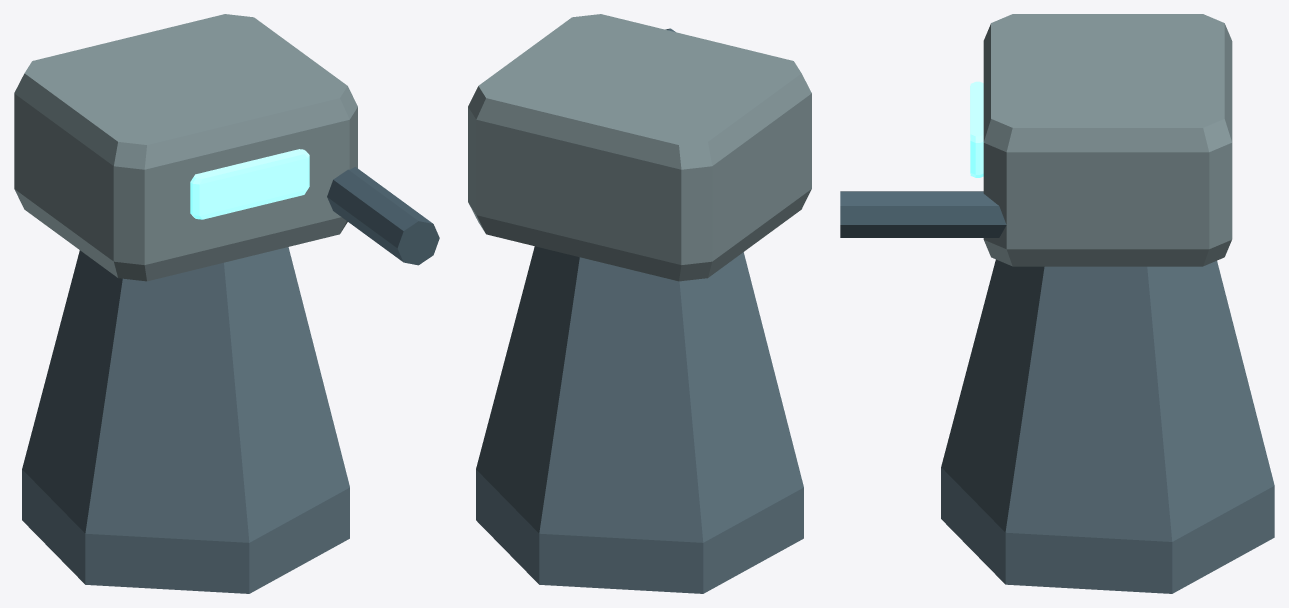
Rendered from SM_ELY_UNIT_001_RangedSentry.glb.
3 renders of one model, left to right at view 1: azimuth 30°, elevation 25°; view 2: azimuth 150°, elevation 25°; view 3: azimuth 270°, elevation 25°, orthographic.
Parts seen in each view (by area): view 1: SM_ELY_UNIT_001_RangedSentry; view 2: SM_ELY_UNIT_001_RangedSentry; view 3: SM_ELY_UNIT_001_RangedSentry.
Part boxes in pixels (x1,y1,x2,y2): SM_ELY_UNIT_001_RangedSentry: (14, 14, 439, 593); SM_ELY_UNIT_001_RangedSentry: (468, 14, 811, 593); SM_ELY_UNIT_001_RangedSentry: (840, 14, 1274, 593).
Size of the model in its own units: 0.813 by 1.32 by 1.14.
